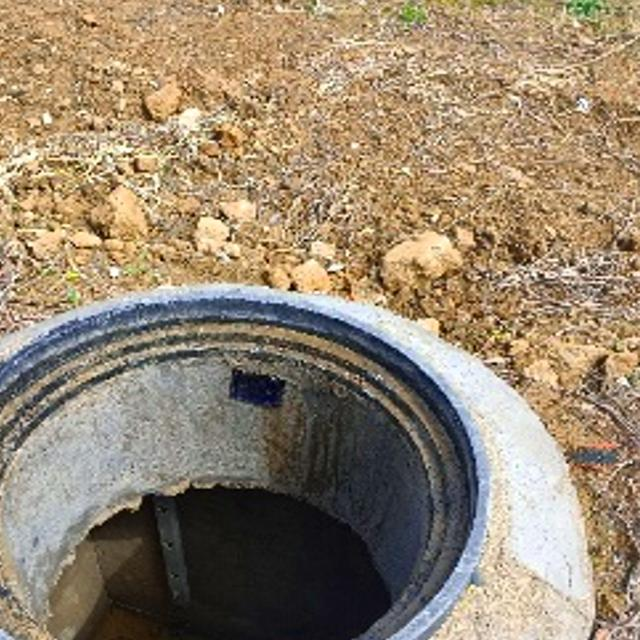lose: (0, 286, 489, 640)
